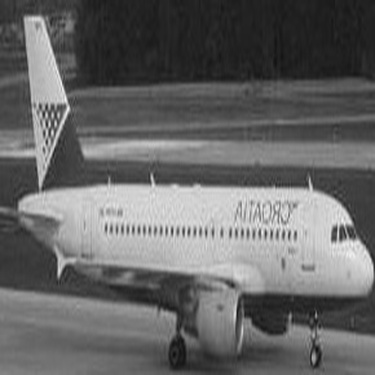airplane: (4, 1, 370, 369)
